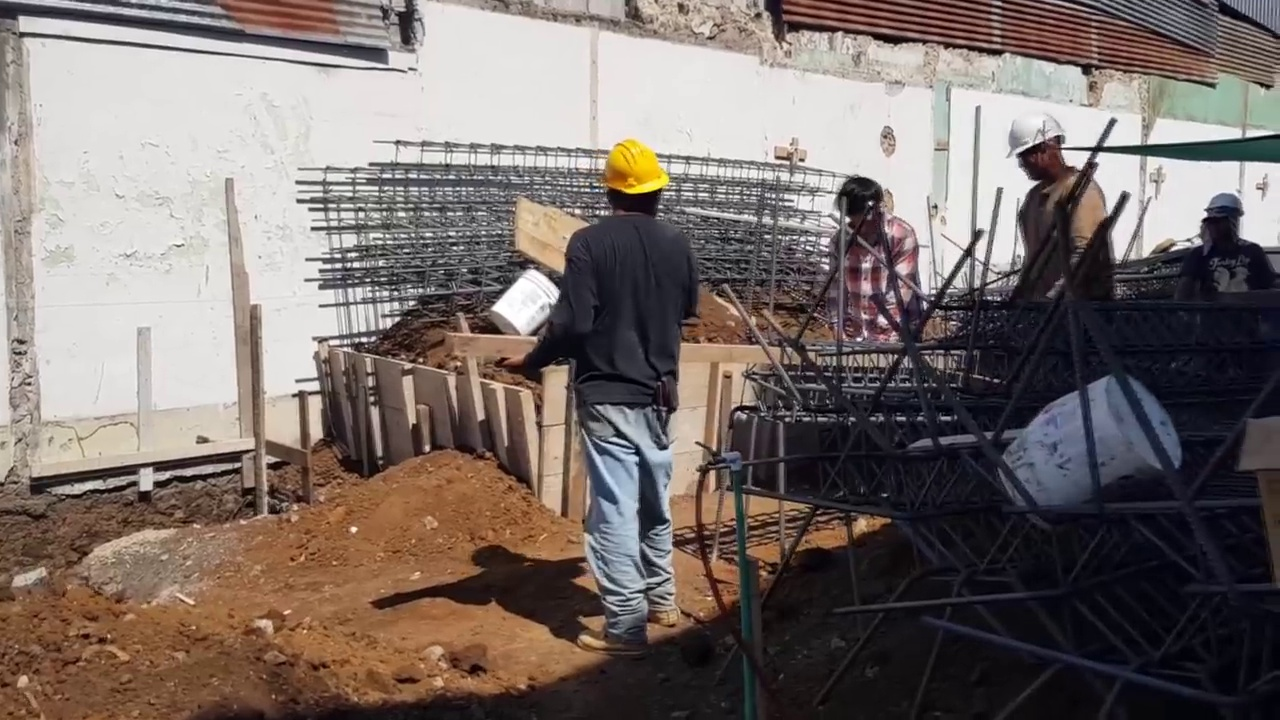helmet: (603, 137, 672, 201), (1000, 114, 1069, 158), (1206, 190, 1250, 224)
helmet-off: (836, 174, 892, 242)
helmet-on: (595, 123, 678, 232), (1010, 114, 1079, 186), (1207, 193, 1252, 249)
person: (484, 109, 703, 653), (1000, 111, 1127, 315), (830, 176, 925, 344), (1175, 188, 1269, 317)
